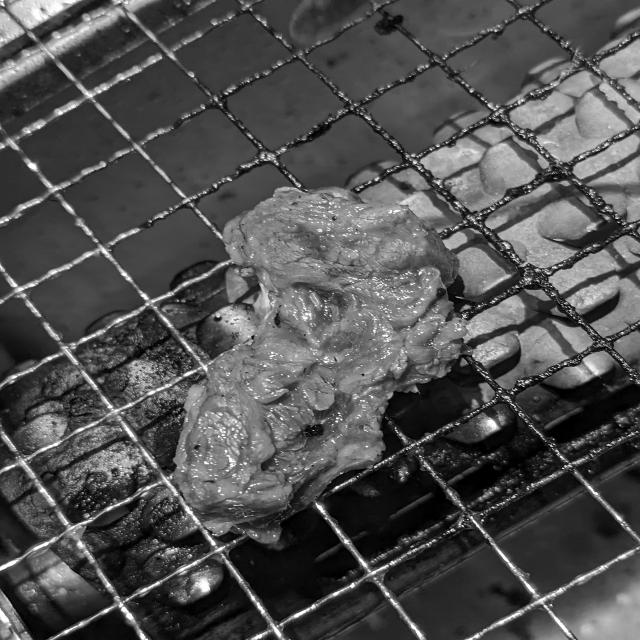OK undercooked beef,: (159, 177, 482, 563)
